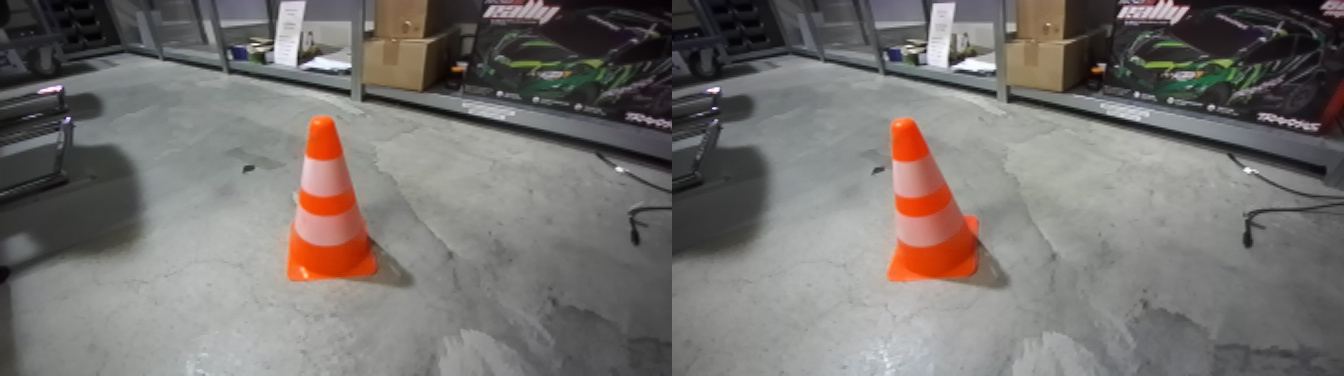cone: (880, 123, 988, 289), (288, 119, 384, 288)
